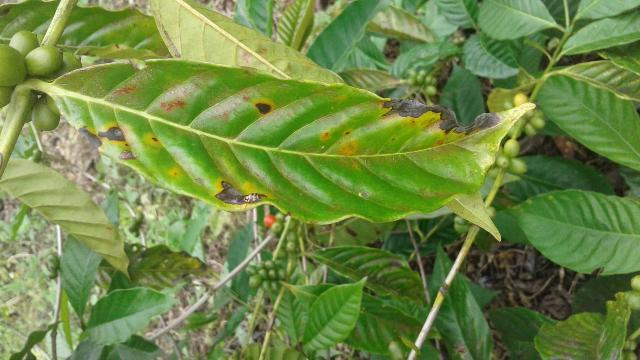rust_level_2: (50, 59, 533, 220)
